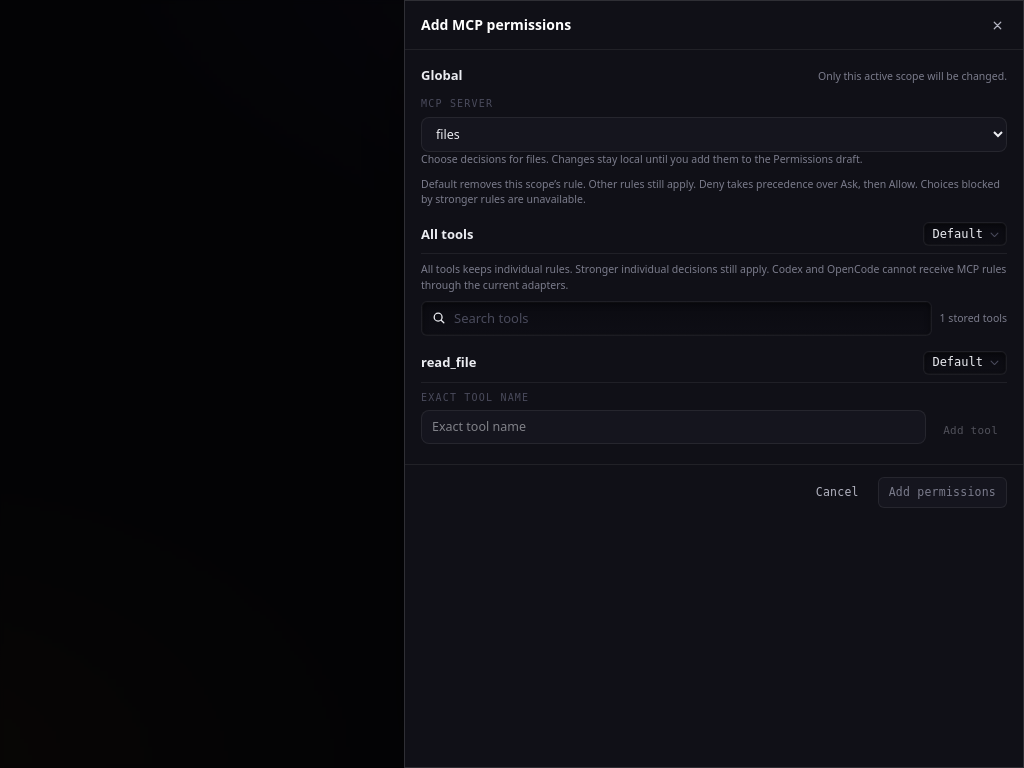
Test: MCP permission sheet › keeps staged decisions visible when the parent rejects the apply
Click the dropdown named "All tools permission" at (965, 234), box [923, 222, 1007, 246]
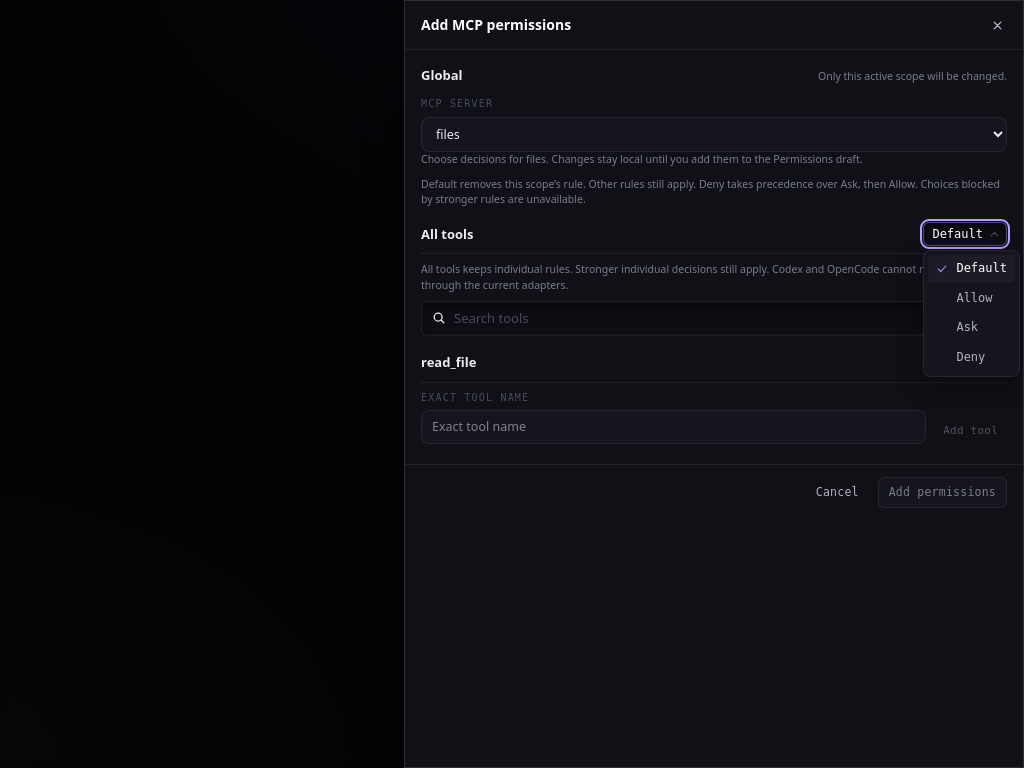
Click the option "Deny" at (971, 357), box [956, 350, 985, 364]
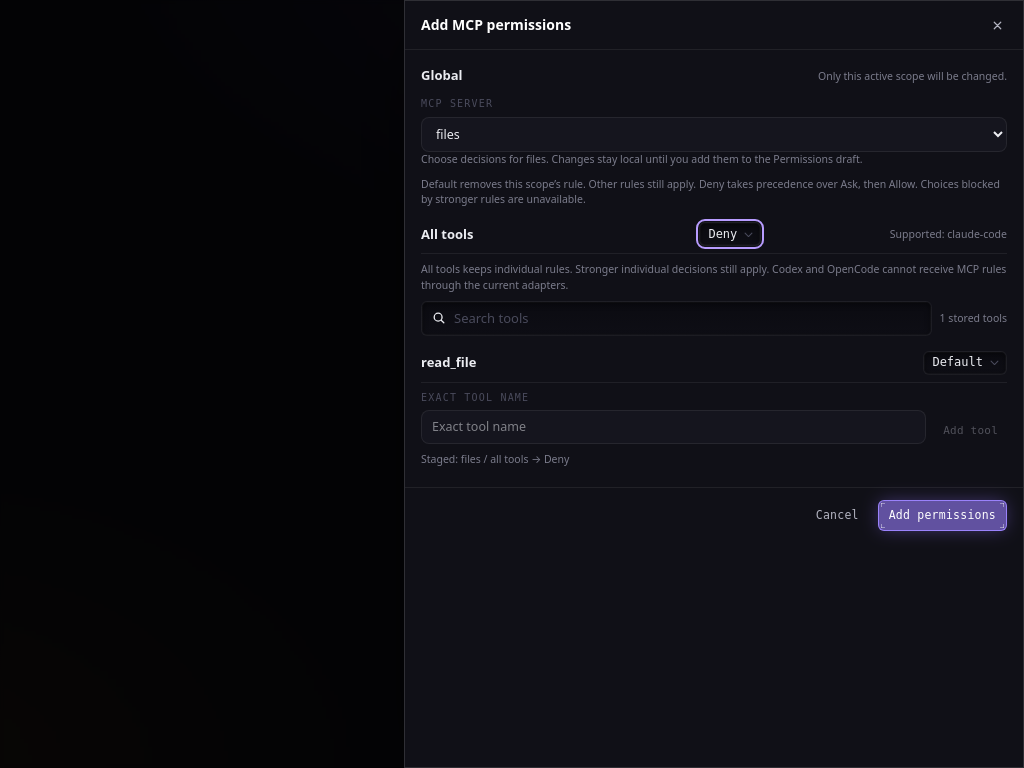
Click the button "Add permissions" at (942, 516), box [878, 500, 1007, 531]
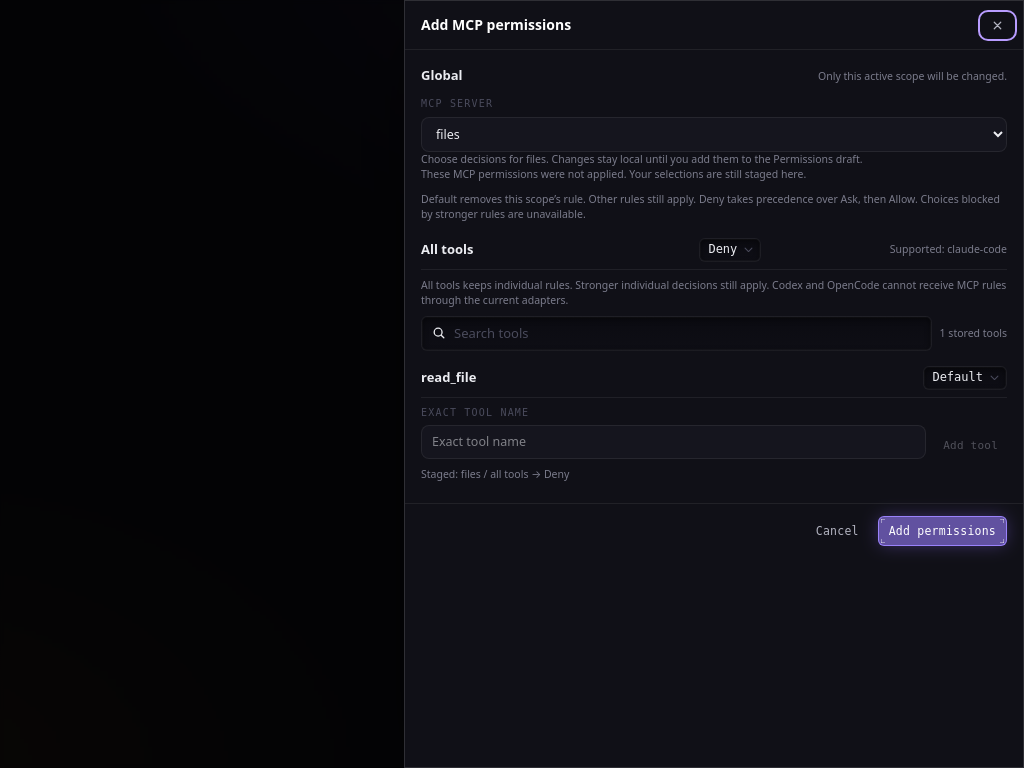
Result: the dropdown named "All tools permission" reads "Deny" at [699, 238, 761, 262]
Result: the message shows "still staged" at [421, 167, 806, 181]
